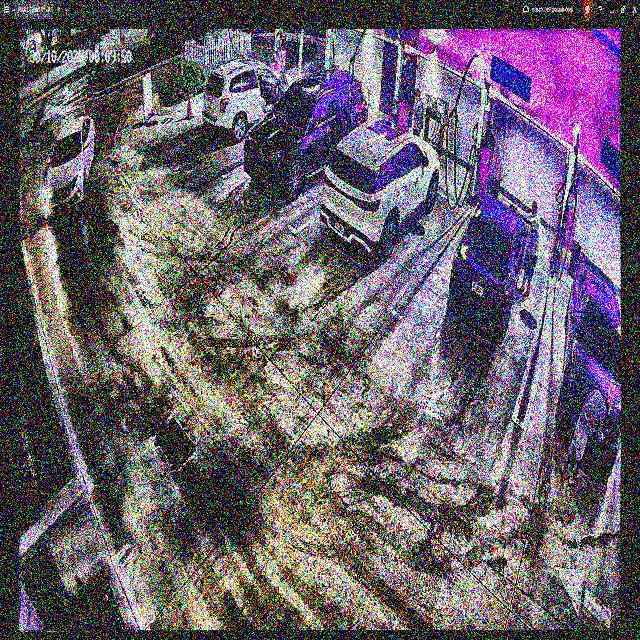Car: (241, 65, 365, 193), (329, 122, 437, 260), (446, 195, 522, 340)
